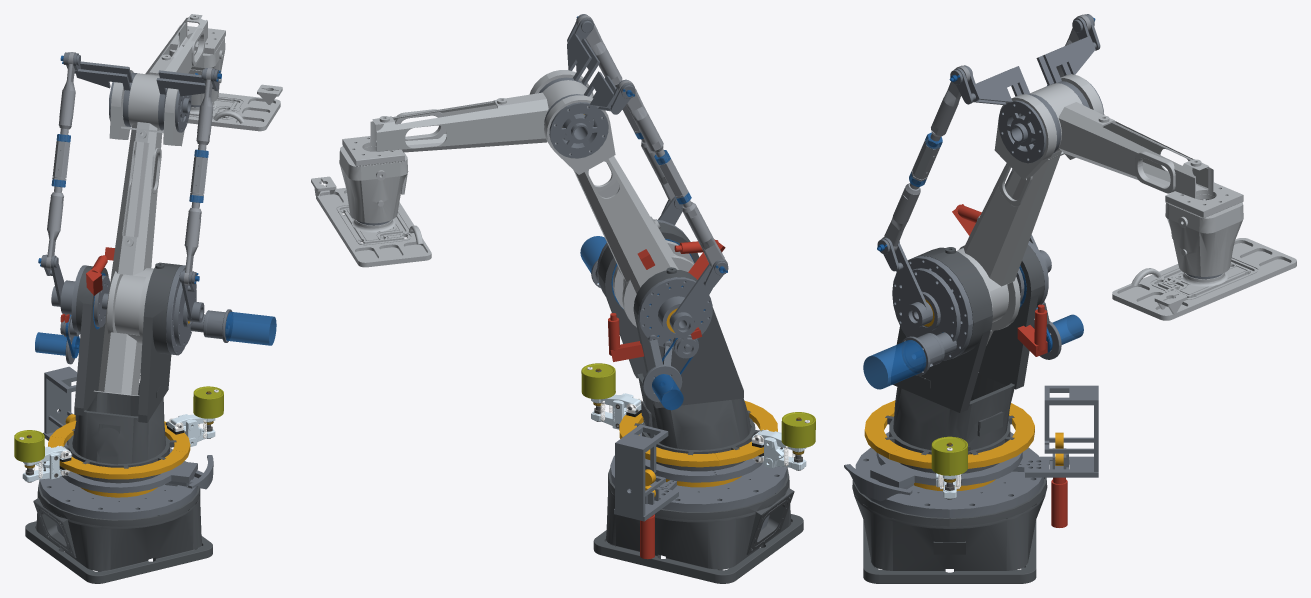
File: robot2-complete.glb
3 views of the same model, side by side, from view 1: azimuth 30°, elevation 25°; view 2: azimuth 150°, elevation 25°; view 3: azimuth 270°, elevation 25° (orthographic). The views are drawn at different scales.
Visible parts, largest first — view 1: R2-B-COLUMN, R2-C-UPPERARM, R2-A-BASE, R2-D-FOREARM, R2-S-J1-CARTRIDGE, R2-G-GRIPPER, REF-J1-BRAKE-DISC-B, R2-V-J1-STOP-TOWER, R2-T-J1-BELL, REF-J2-PRIMARY-MOTOR, R2-I-J3-ROCKER-R, 4457_250_620_000000_ASM|Next_assembly_relationship#3514_100_ (×2) (+21 smaller); view 2: R2-B-COLUMN, R2-A-BASE, R2-D-FOREARM, R2-C-UPPERARM, R2-G-GRIPPER, R2-V-J1-STOP-TOWER, R2-F-WRIST, R2-S-J1-CARTRIDGE, R2-R-J3-CARRIER-J3SIDE, R2-L-CD-SUPPORT-R, 4457_250_620_000000_ASM|Next_assembly_relationship#3514_100_ (×2), R2-H-J3-HALF-SHAFT-R (+12 smaller); view 3: R2-B-COLUMN, R2-A-BASE, R2-C-UPPERARM, R2-D-FOREARM, R2-G-GRIPPER, R2-S-J1-CARTRIDGE, R2-F-WRIST, R2-V-J1-STOP-TOWER, R2-N-J3-CARRIER-J2SIDE, R2-AG-J2-POD-CAP, REF-J1-BRAKE-DISC-A, R2-I-J3-ROCKER-L (+15 smaller).
Boxes of the visible parts, x1,y1,x2,y2 form: R2-B-COLUMN: (63,262,181,483); R2-C-UPPERARM: (94,70,184,395); R2-A-BASE: (25,480,212,583); R2-D-FOREARM: (128,14,225,130); R2-S-J1-CARTRIDGE: (40,461,197,536); R2-G-GRIPPER: (187,84,282,131); REF-J1-BRAKE-DISC-B: (48,436,187,479); R2-V-J1-STOP-TOWER: (43,366,77,446); R2-T-J1-BELL: (62,448,197,493); REF-J2-PRIMARY-MOTOR: (225,311,276,345); R2-I-J3-ROCKER-R: (65,52,137,126); 4457_250_620_000000_ASM|Next_assembly_relationship#3514_100_ (×2): (14,386,223,462); R2-B-COLUMN: (598,222,761,471); R2-A-BASE: (593,467,803,583); R2-D-FOREARM: (342,80,593,166); R2-C-UPPERARM: (529,70,694,327); R2-G-GRIPPER: (311,176,431,267); R2-V-J1-STOP-TOWER: (614,424,678,521); R2-F-WRIST: (339,146,408,223); R2-S-J1-CARTRIDGE: (610,455,786,530); R2-R-J3-CARRIER-J3SIDE: (638,277,712,358); R2-L-CD-SUPPORT-R: (549,102,608,158); 4457_250_620_000000_ASM|Next_assembly_relationship#3514_100_ (×2): (581,363,815,448); R2-H-J3-HALF-SHAFT-R: (669,259,727,336); R2-B-COLUMN: (885,245,1044,473); R2-A-BASE: (852,477,1047,583); R2-C-UPPERARM: (957,74,1103,372); R2-D-FOREARM: (1021,83,1243,217); R2-G-GRIPPER: (1112,238,1296,320); R2-S-J1-CARTRIDGE: (855,447,1043,517); R2-F-WRIST: (1165,194,1243,276); R2-V-J1-STOP-TOWER: (1025,385,1098,477); R2-N-J3-CARRIER-J2SIDE: (896,268,960,341); R2-AG-J2-POD-CAP: (892,256,972,363); REF-J1-BRAKE-DISC-A: (889,403,1034,468); R2-I-J3-ROCKER-L: (954,65,1061,153).
Size of the model in its own units: 1.83 by 2.19 by 1.67.
